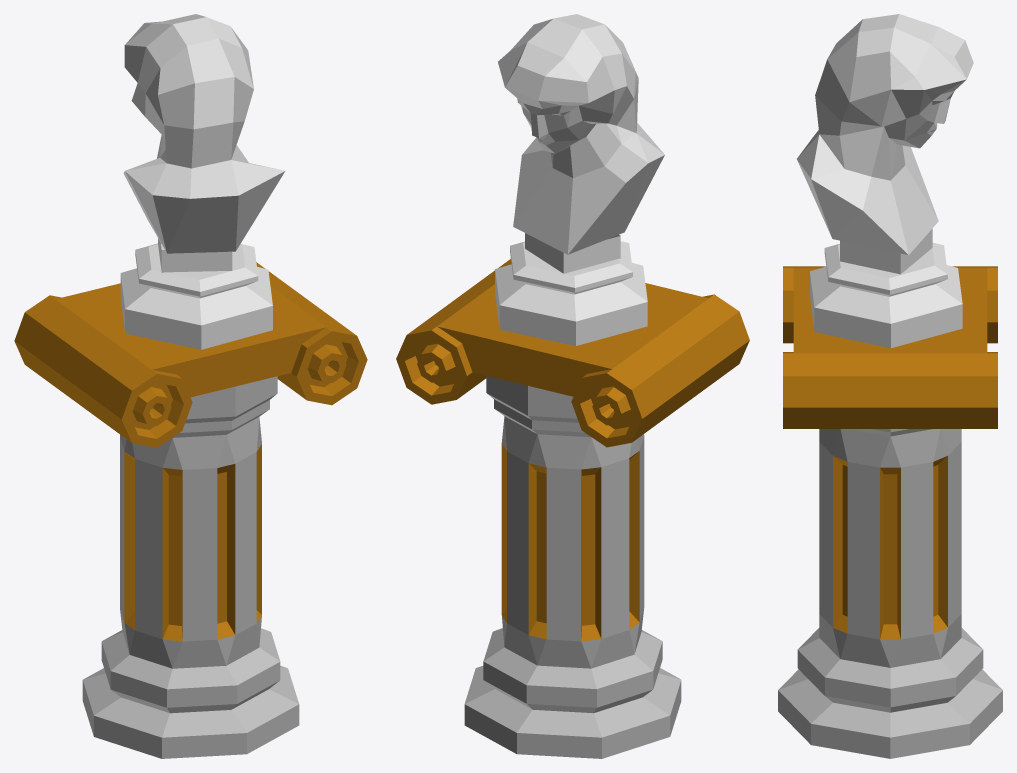
Rendered from tuong2.fbx.
3 renders of one model, left to right at view 1: azimuth 30°, elevation 25°; view 2: azimuth 150°, elevation 25°; view 3: azimuth 270°, elevation 25°, orthographic.
Visible parts, largest first — view 1: tuong2; view 2: tuong2; view 3: tuong2.
Part boxes in pixels (x1,y1,x2,y2): tuong2: (14, 14, 367, 758); tuong2: (396, 14, 749, 758); tuong2: (778, 14, 1002, 758).
Size of the model in its own units: 138 by 371 by 109.
